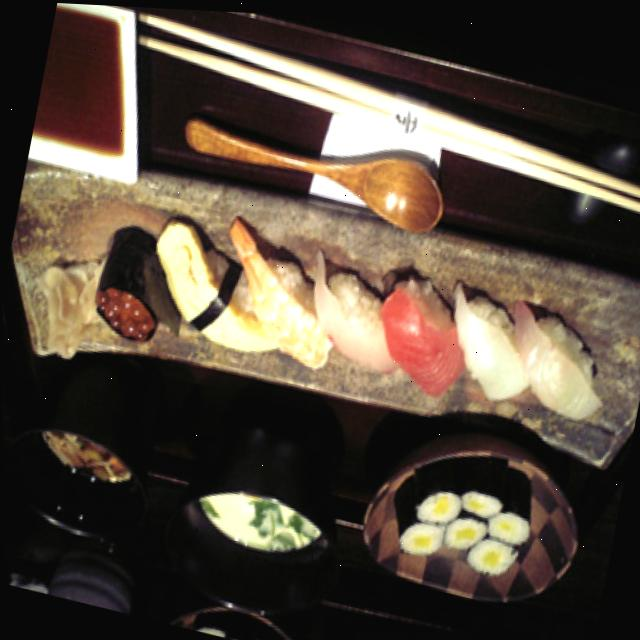寿司卷物: (80, 174, 640, 458)
